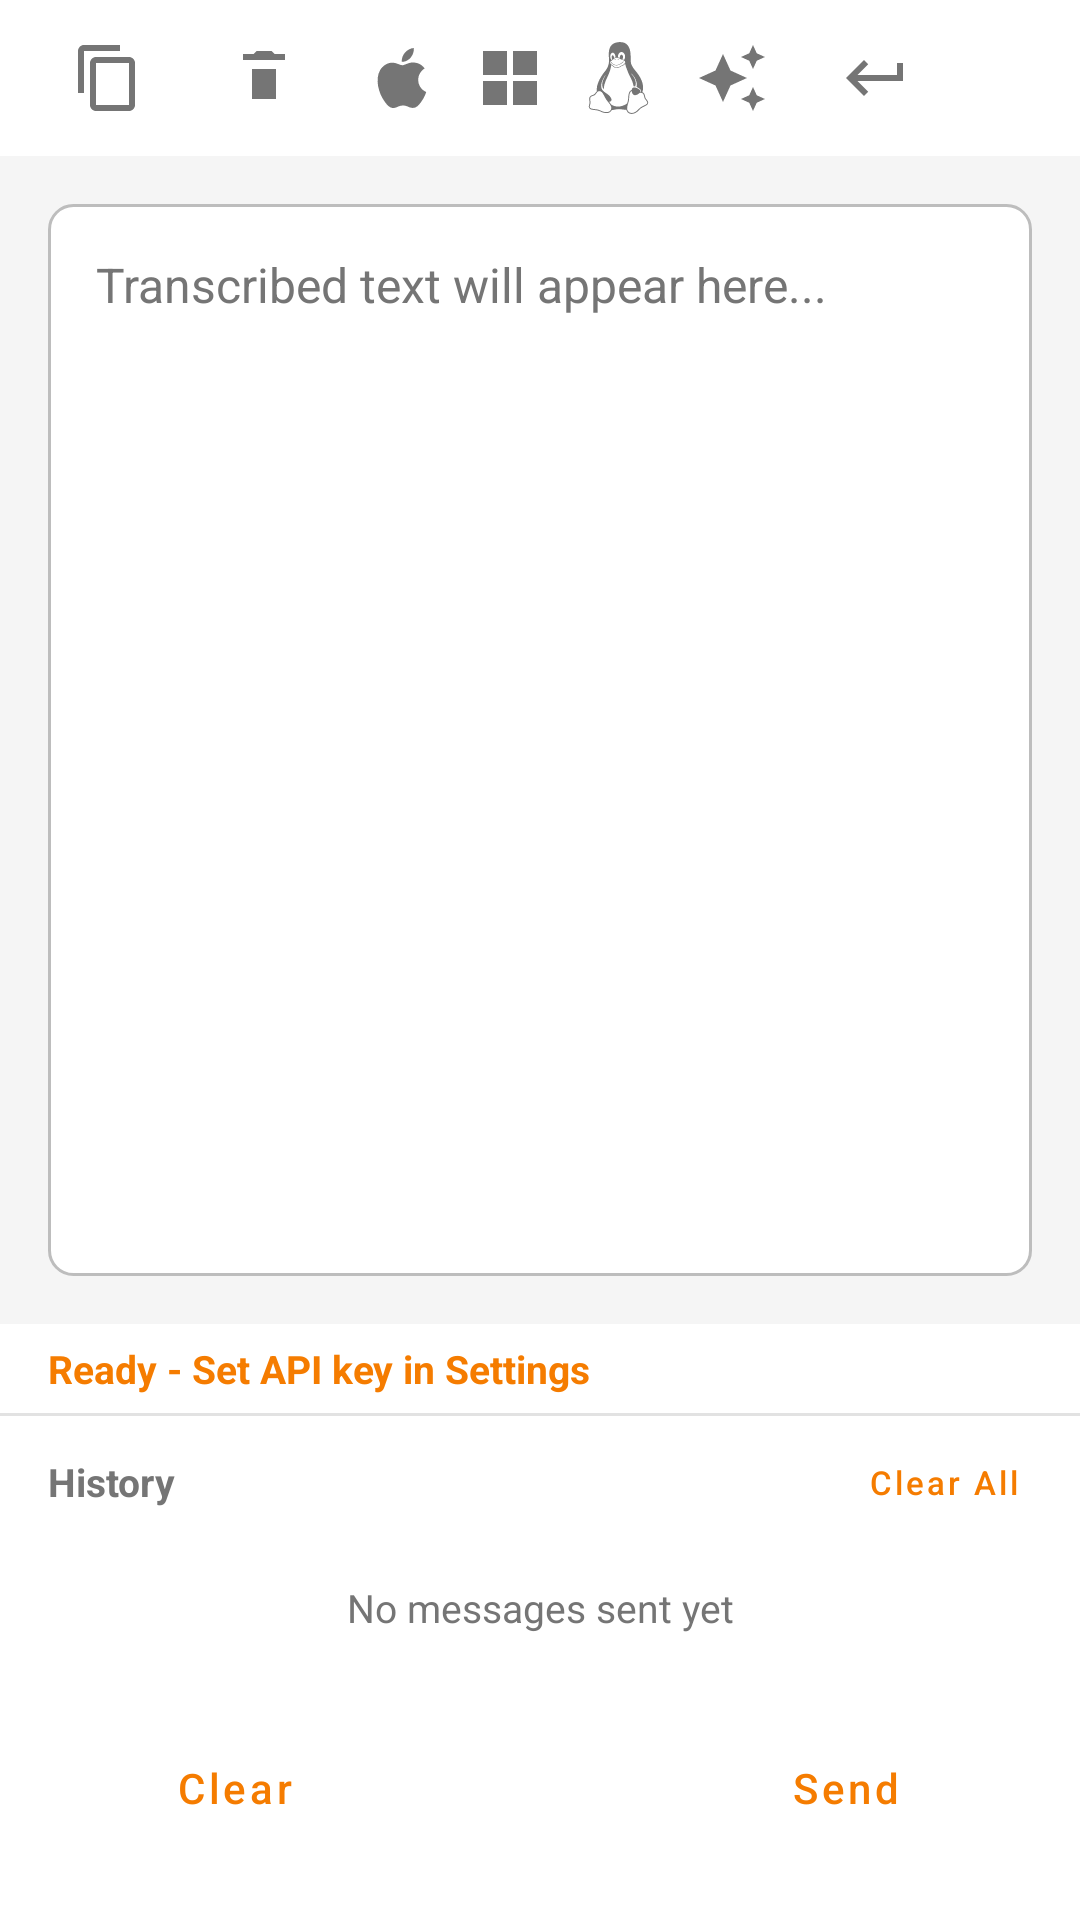

Icons on this 1080px x 1920px Android screen, each with the point to tap as (x=x, y=y):
AI refinement: (x=732, y=78)
Auto return: (x=874, y=78)
Clear text: (x=264, y=75)
Copy text: (x=106, y=78)
